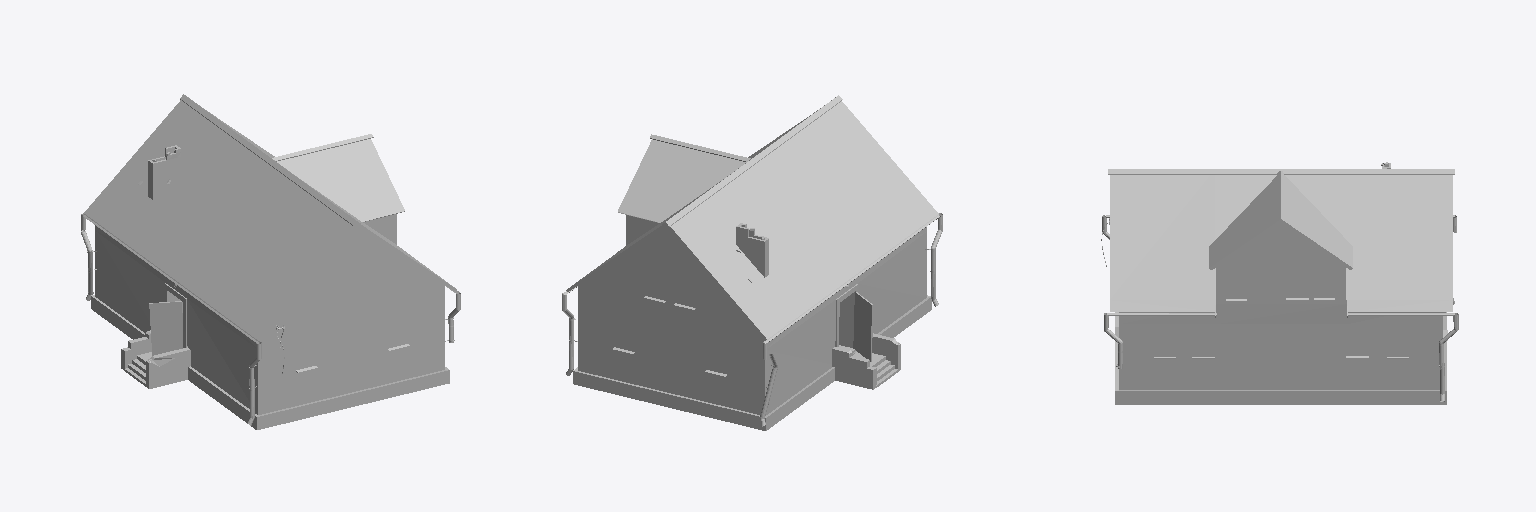
The model's file is Casa_ruinas_1.obj.
3 renders of one model, left to right at view 1: azimuth 30°, elevation 25°; view 2: azimuth 150°, elevation 25°; view 3: azimuth 270°, elevation 25°, orthographic.
Visible parts, largest first — view 1: крыша_Cube:027_Cube:039:004.001; view 2: крыша_Cube:027_Cube:039:004.001; view 3: крыша_Cube:027_Cube:039:004.001.
Part boxes in pixels (x1,y1,x2,y2): крыша_Cube:027_Cube:039:004.001: (81,94,460,429); крыша_Cube:027_Cube:039:004.001: (562,95,942,430); крыша_Cube:027_Cube:039:004.001: (1101,162,1458,404).
Size of the model in its own units: 6.62 by 4.96 by 8.52.